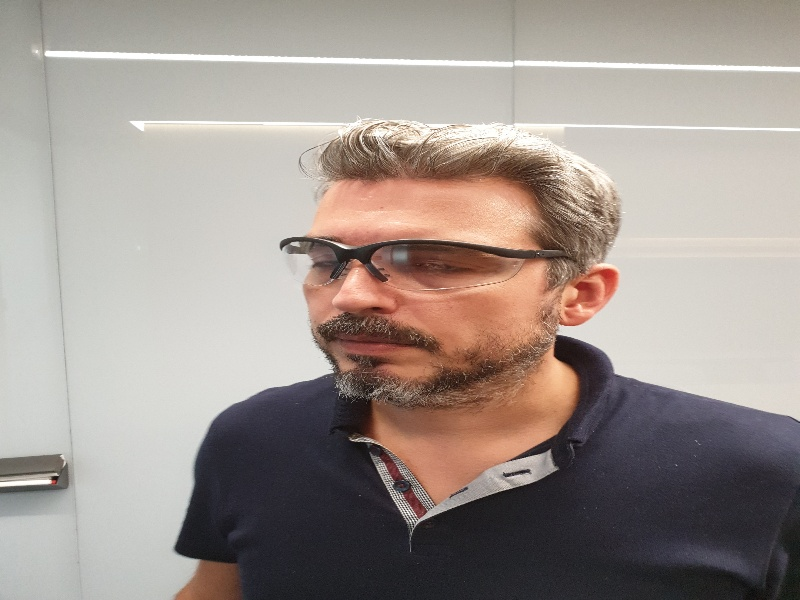Gozluk: (277, 237, 571, 286)
